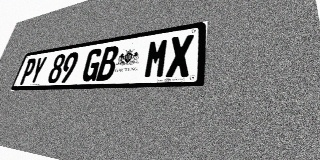8: (46, 53, 67, 83)
9: (58, 51, 80, 83)
B: (96, 45, 120, 81)
G: (80, 48, 104, 82)
M: (143, 38, 170, 79)
P: (18, 58, 38, 85)
X: (166, 34, 194, 78)
Y: (28, 56, 48, 84)
